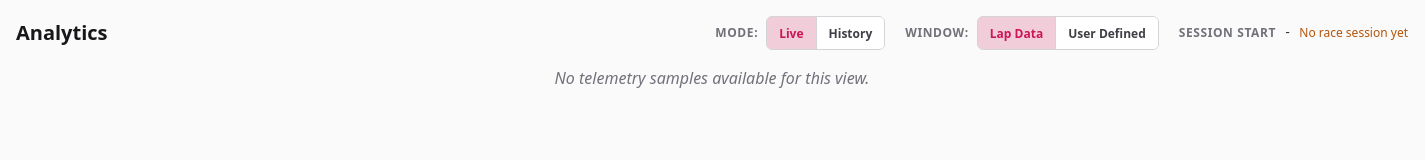
Scenario: AnalyticsTab › shows lap session start in live lap mode and session select in history lap mode
This screenshot has width=1425, height=160.
Click the button "History": x=850, y=34 [816,17,884,51]
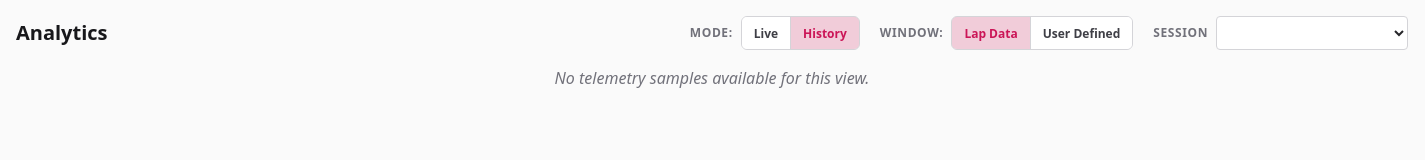
Result: the dropdown with id "analytics-race" is shown at [1216,16,1408,50]
Result: the text "Session start" is gone
